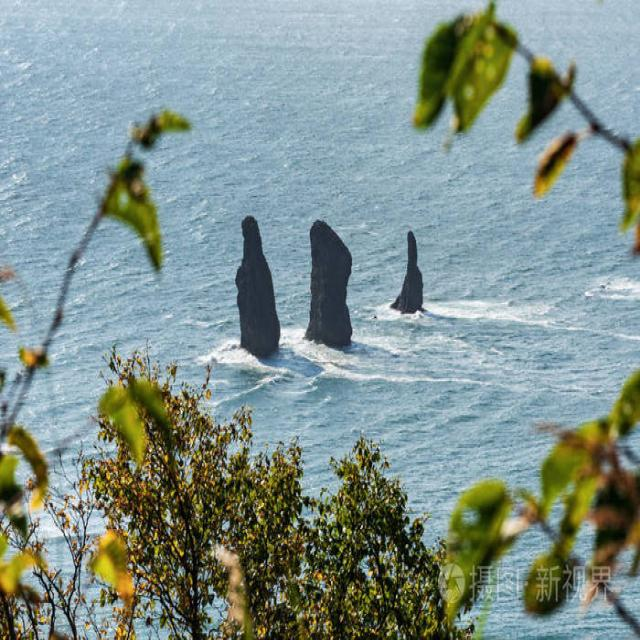reef: (203, 220, 479, 362)
